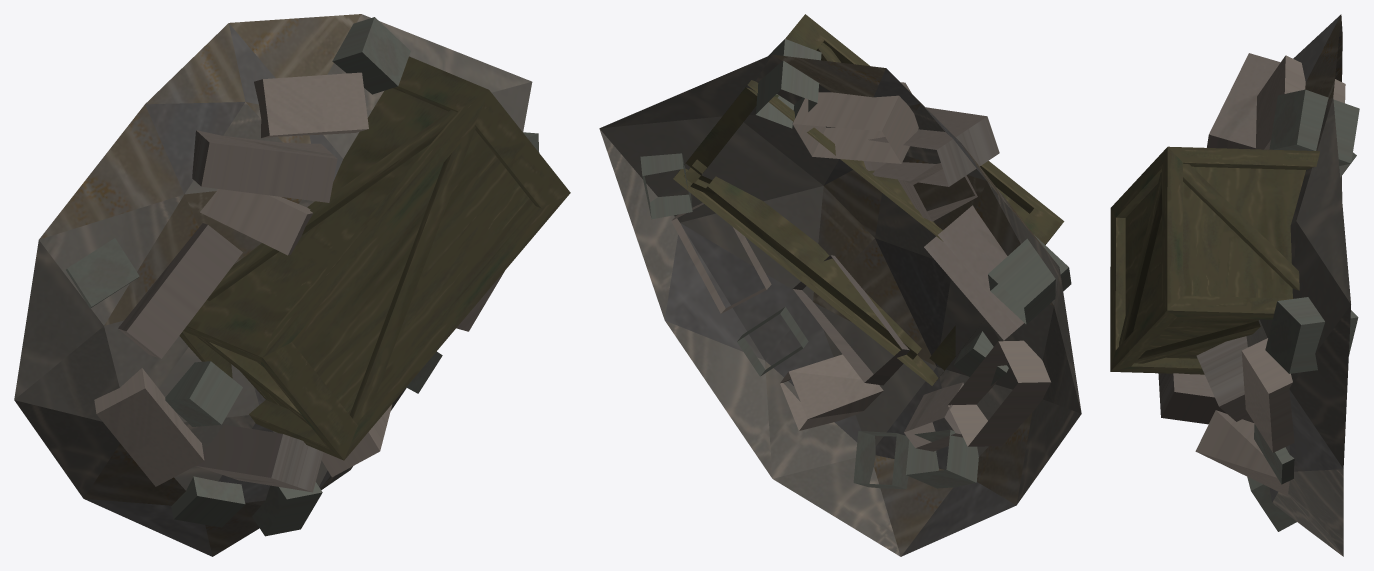
File: BoxDebrisC01.fbx
3 renders of one model, left to right at view 1: azimuth 30°, elevation 25°; view 2: azimuth 150°, elevation 25°; view 3: azimuth 270°, elevation 25°, orthographic. The views are drawn at different scales.
Visible parts, largest first — view 1: BoxDebrisC01; view 2: BoxDebrisC01; view 3: BoxDebrisC01.
Part boxes in pixels (<box>): BoxDebrisC01: <box>14,14,570,556</box>; BoxDebrisC01: <box>599,14,1081,556</box>; BoxDebrisC01: <box>1110,14,1359,556</box>.
Size of the model in its own units: 264 by 256 by 108.
